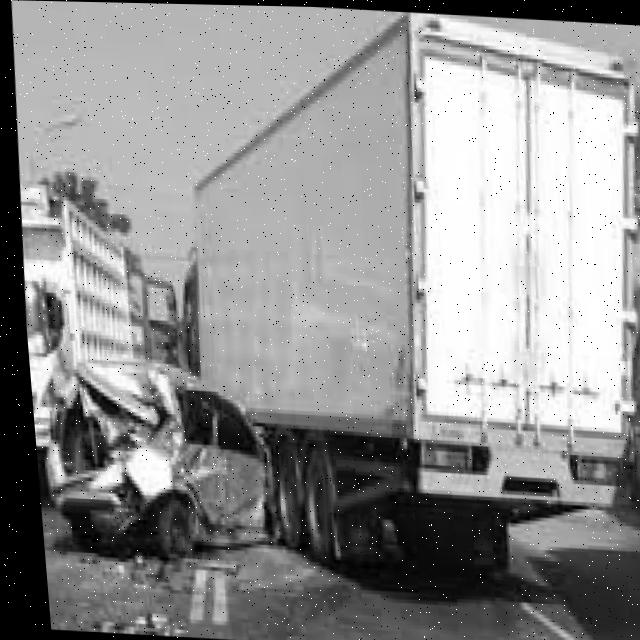truck: (161, 4, 640, 602)
